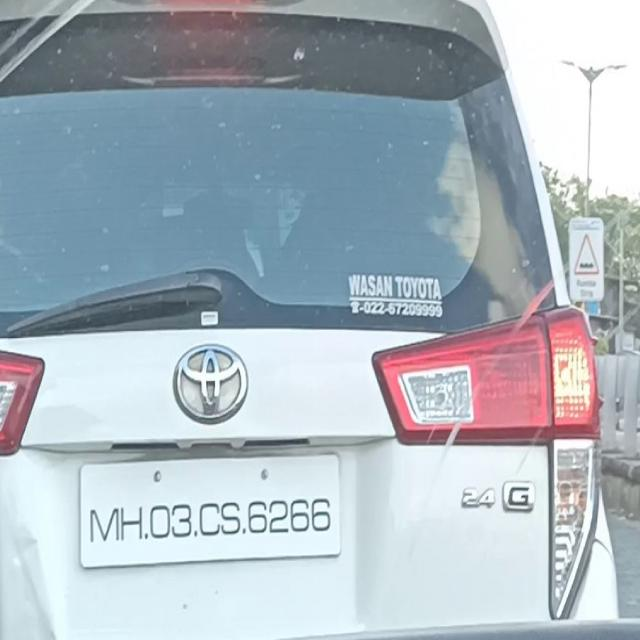Plate: (79, 452, 342, 570)
